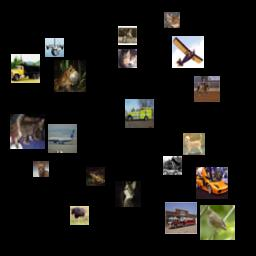airplane: (172, 36, 204, 68), (48, 124, 77, 153), (45, 38, 64, 57)
automobile: (196, 167, 228, 199)
bird: (200, 205, 235, 240), (70, 206, 89, 225)
cat: (10, 114, 45, 149), (115, 181, 141, 207), (118, 49, 137, 68), (164, 12, 180, 28)
dog: (183, 133, 205, 155), (33, 161, 49, 177)
frog: (54, 60, 86, 92), (86, 167, 105, 186)
truck: (165, 202, 197, 234), (11, 54, 40, 83), (125, 99, 154, 128), (163, 156, 182, 175)
